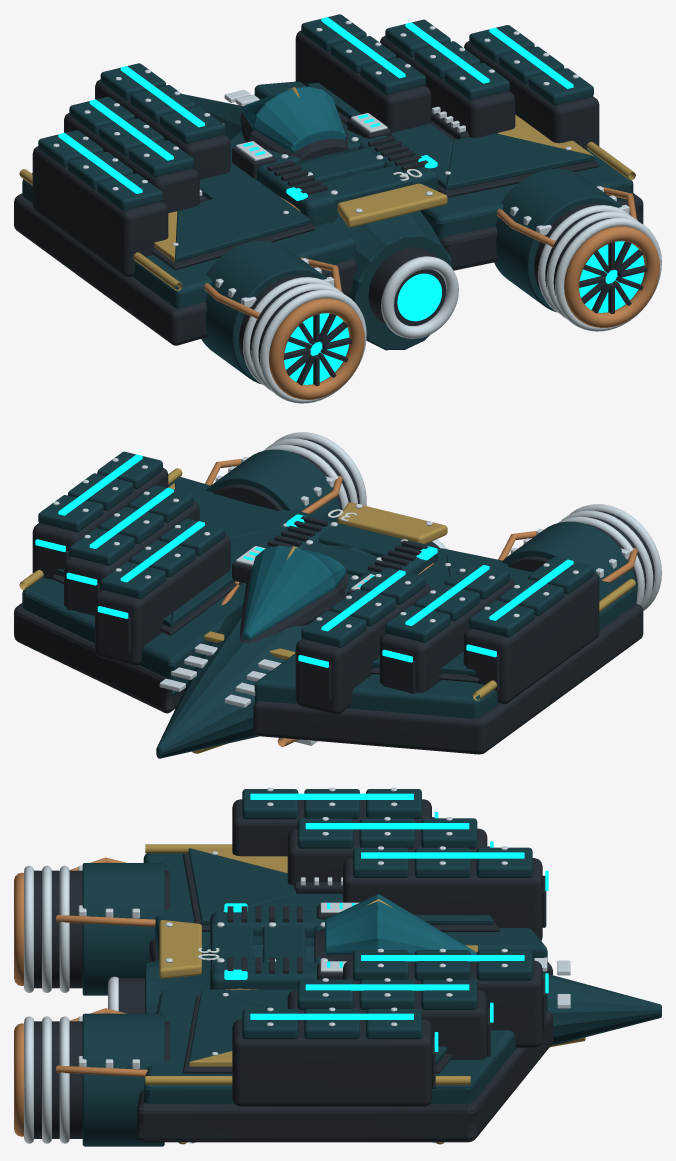
The picture shows the model from 3 angles, top to bottom: view 1: azimuth 30°, elevation 25°; view 2: azimuth 150°, elevation 25°; view 3: azimuth 270°, elevation 25°; orthographic projection. The views are drawn at different scales.
Parts seen in each view (by area): view 1: SolidHull_30; view 2: SolidHull_30; view 3: SolidHull_30.
Part boxes in pixels (bbox=[...]): SolidHull_30: bbox=[14, 14, 661, 403]; SolidHull_30: bbox=[14, 432, 661, 758]; SolidHull_30: bbox=[14, 787, 661, 1146].
Size of the model in its own units: 3.23 by 1.21 by 3.63.
